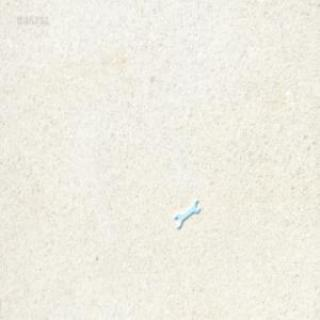Wrenchtrack_idkeyframe: (173, 196, 200, 227)
